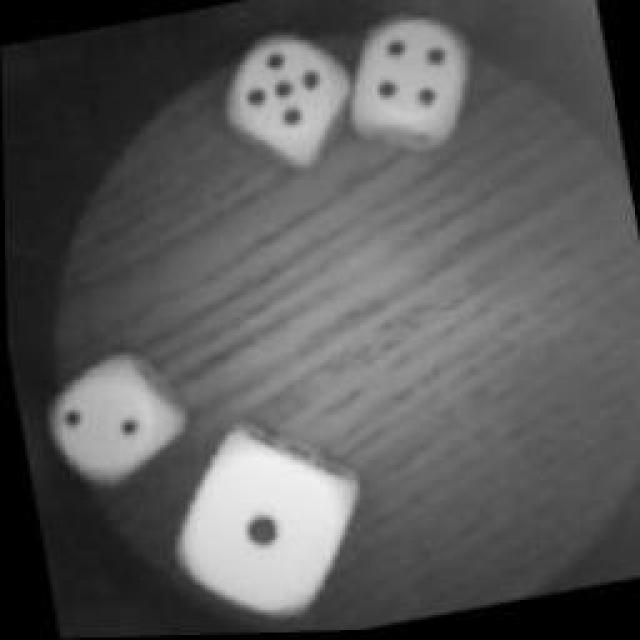dice_1: (154, 408, 378, 638)
dice_2: (38, 342, 190, 498)
dice_4: (342, 4, 490, 154)
dice_5: (216, 20, 369, 178)
